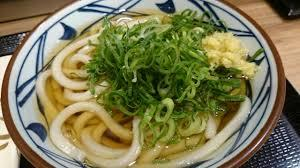bukkake: (4, 1, 282, 168)
